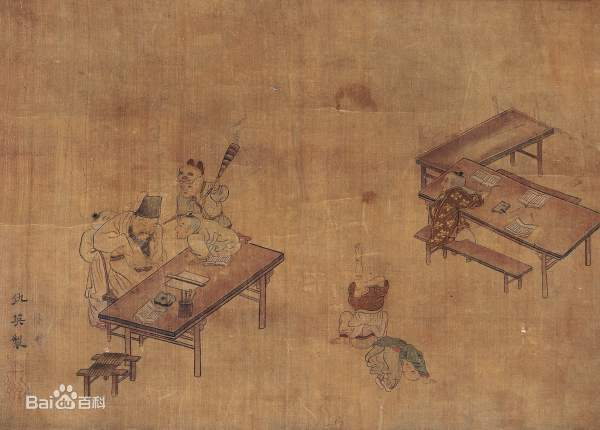kid: (179, 167, 234, 258), (345, 249, 388, 334), (81, 214, 115, 304), (435, 172, 474, 243), (372, 343, 435, 384), (226, 149, 236, 164)
man: (116, 204, 165, 279)
table: (483, 177, 598, 256), (432, 113, 542, 165), (132, 282, 223, 326), (84, 353, 135, 390), (244, 250, 277, 271), (167, 261, 194, 280), (256, 279, 267, 325), (194, 327, 202, 374), (104, 304, 130, 316), (228, 275, 240, 292), (125, 333, 132, 354)
